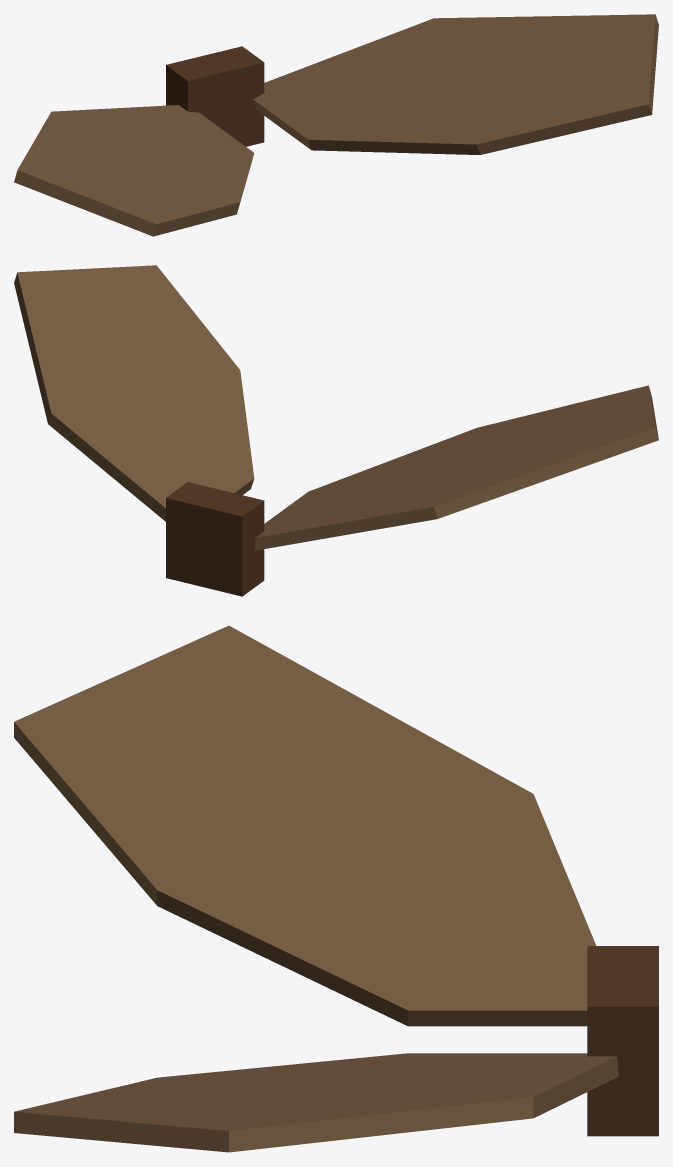
Rendered from mothron_wings.glb.
The picture shows the model from 3 angles, top to bottom: view 1: azimuth 30°, elevation 25°; view 2: azimuth 150°, elevation 25°; view 3: azimuth 270°, elevation 25°; orthographic projection. The views are drawn at different scales.
Parts seen in each view (by area): view 1: mothron_wings_v0; view 2: mothron_wings_v0; view 3: mothron_wings_v0.
Part boxes in pixels (x1,y1,x2,y2): mothron_wings_v0: [14, 14, 658, 236]; mothron_wings_v0: [14, 265, 658, 596]; mothron_wings_v0: [14, 625, 658, 1152].
Bounding box in the file's own units: 0.675 × 0.1403 × 0.36.
